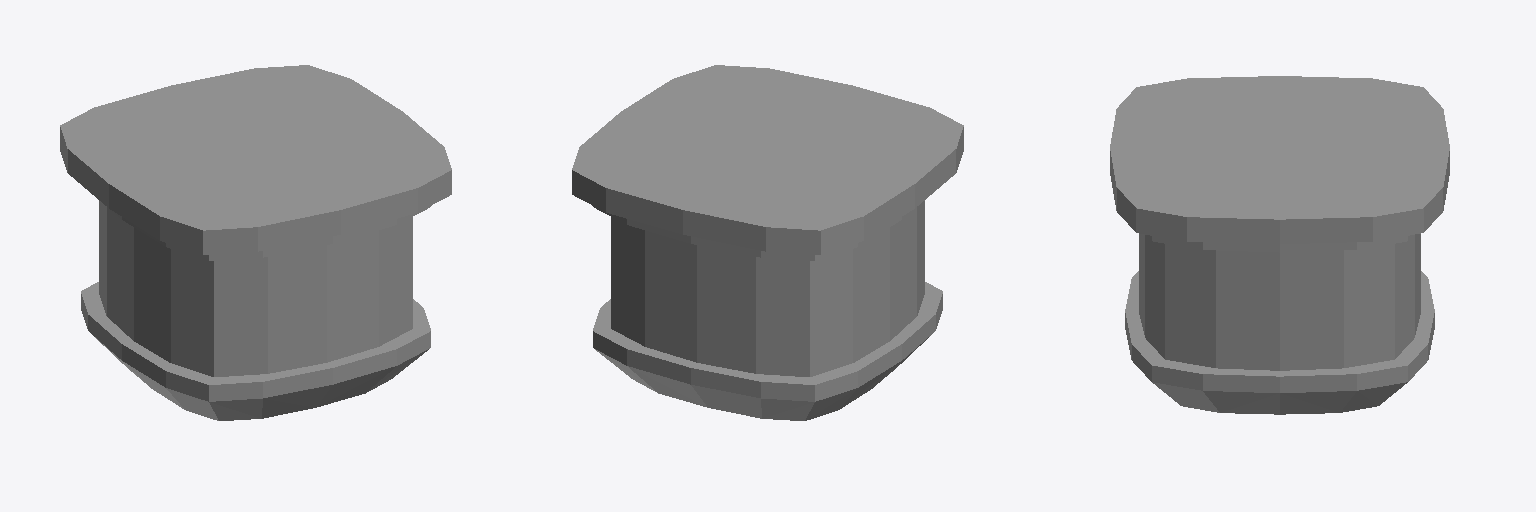
Rendered from towertop.obj.
3 renders of one model, left to right at view 1: azimuth 30°, elevation 25°; view 2: azimuth 150°, elevation 25°; view 3: azimuth 270°, elevation 25°, orthographic.
Parts seen in each view (by area): view 1: Cube; view 2: Cube; view 3: Cube.
Part boxes in pixels (bbox=[...]): Cube: bbox=[60, 65, 451, 420]; Cube: bbox=[572, 65, 963, 420]; Cube: bbox=[1110, 76, 1449, 414].
Size of the model in its own units: 2.85 by 2 by 2.85.